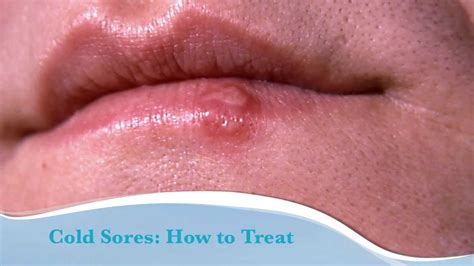Cold Sore: (194, 79, 264, 141)
